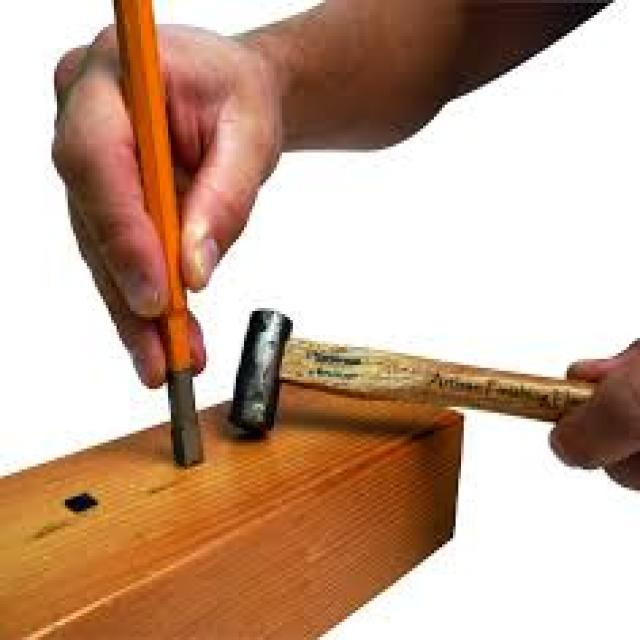hammer: (214, 237, 616, 474)
